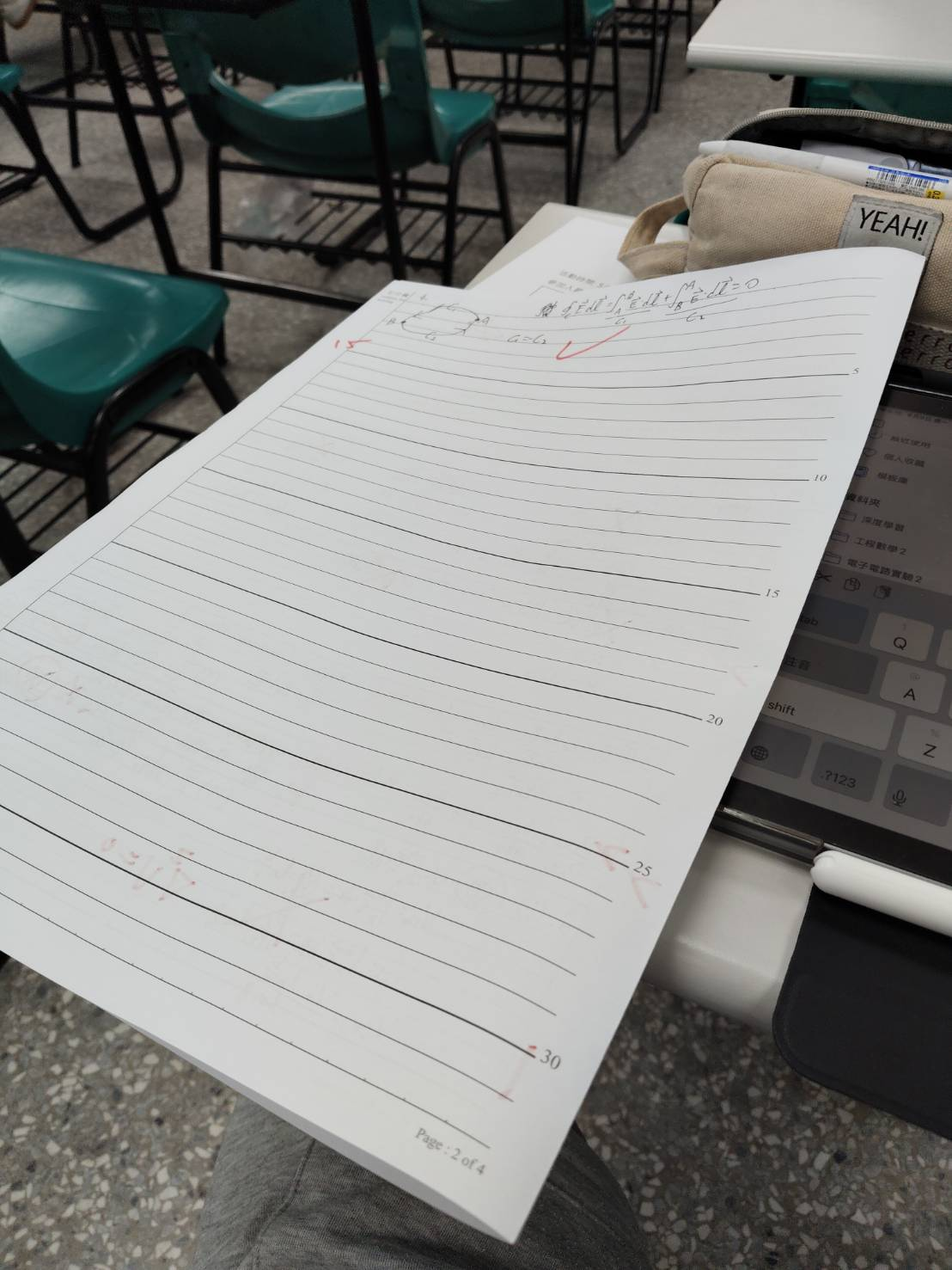paper: (21, 230, 851, 1176)
